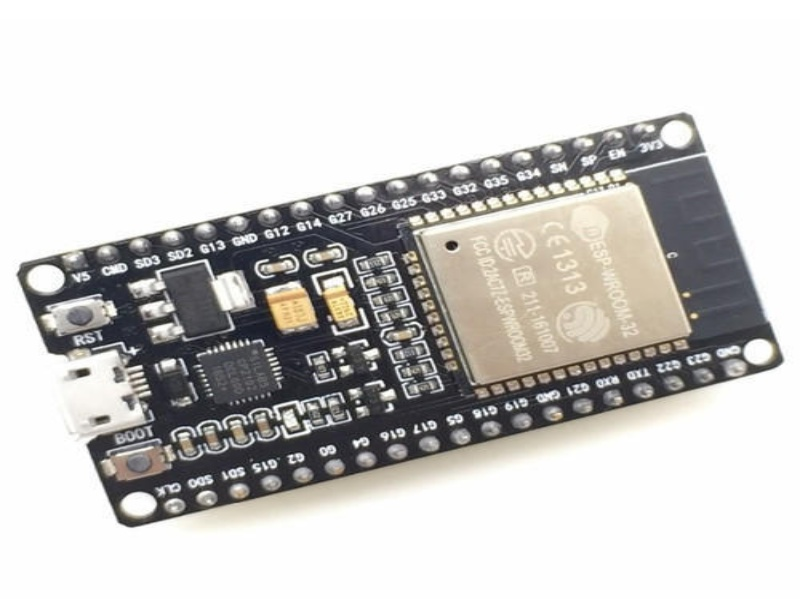esp32: (17, 101, 784, 536)
